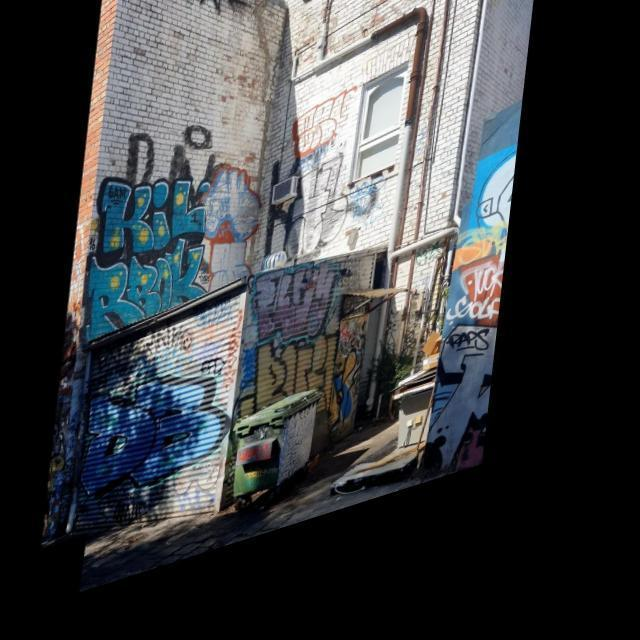-: (93, 120, 282, 350), (245, 258, 384, 476), (84, 351, 249, 522), (449, 184, 527, 486), (280, 104, 370, 290), (130, 0, 266, 67), (284, 0, 322, 14)
